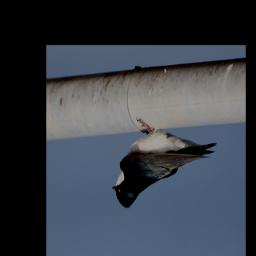Swallow: (112, 117, 217, 209)
